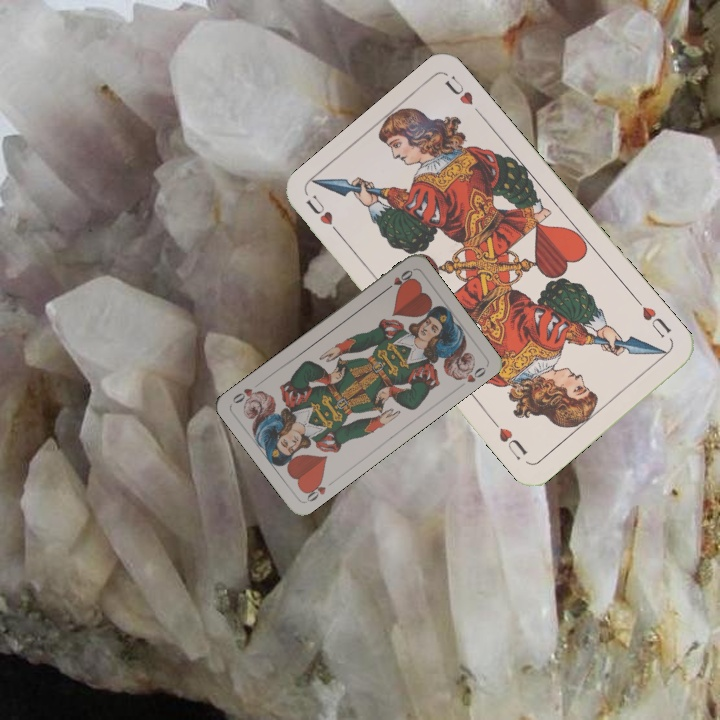HO: (380, 266, 416, 294), (300, 475, 328, 505)
HU: (302, 190, 346, 241), (631, 294, 674, 341)
